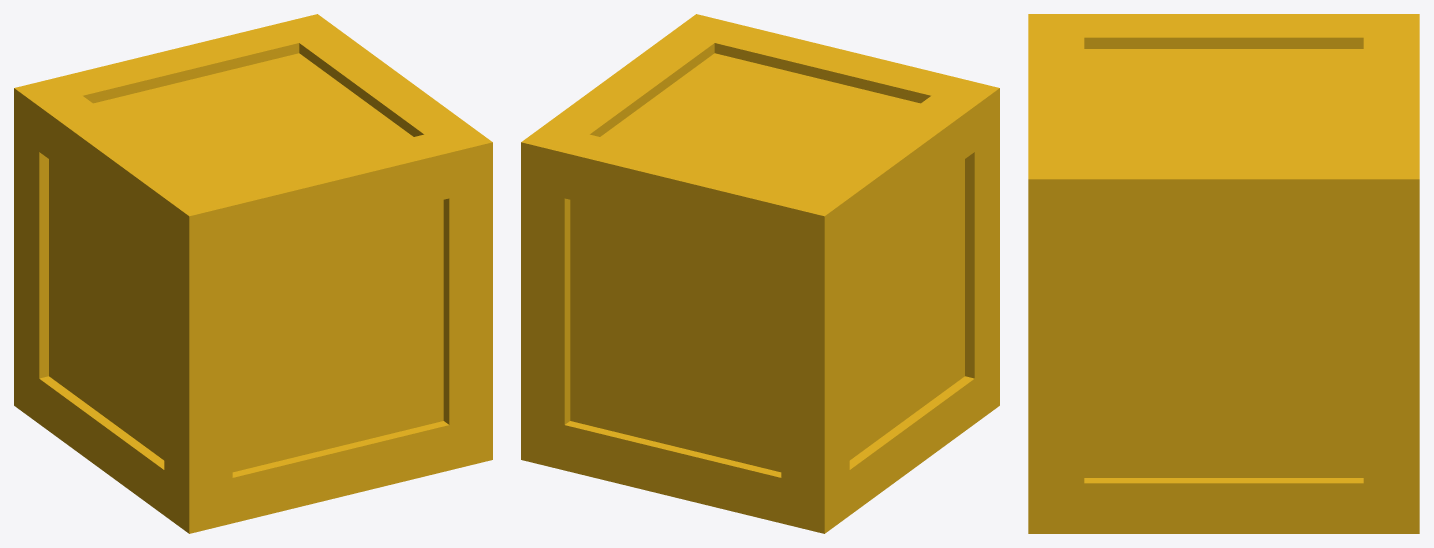
The picture shows the model from 3 angles, left to right: view 1: azimuth 30°, elevation 25°; view 2: azimuth 150°, elevation 25°; view 3: azimuth 270°, elevation 25°; orthographic projection. The views are drawn at different scales.
Visible parts, largest first — view 1: Box_low; view 2: Box_low; view 3: Box_low.
Part boxes in pixels (<box>): Box_low: <box>14,14,492,533</box>; Box_low: <box>521,14,999,533</box>; Box_low: <box>1028,14,1419,533</box>.
Size of the model in its own units: 0.99 by 0.99 by 0.99.
